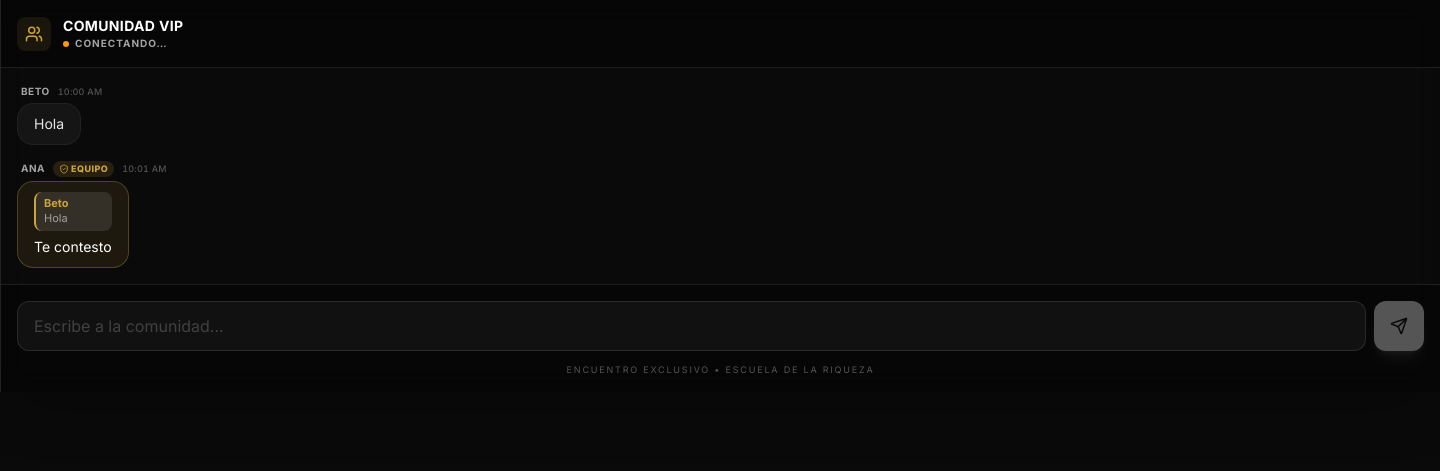
Test: LiveChat — moderación y borrado en tiempo real (2026-10-09) › DELETE por Realtime › no cancela una respuesta a otro mensaje
The width and height of the screenshot is (1440, 471).
Step 1. Click the button "Beto Hola Te contesto" → {"x": 73, "y": 224}, box [17,180,128,268]
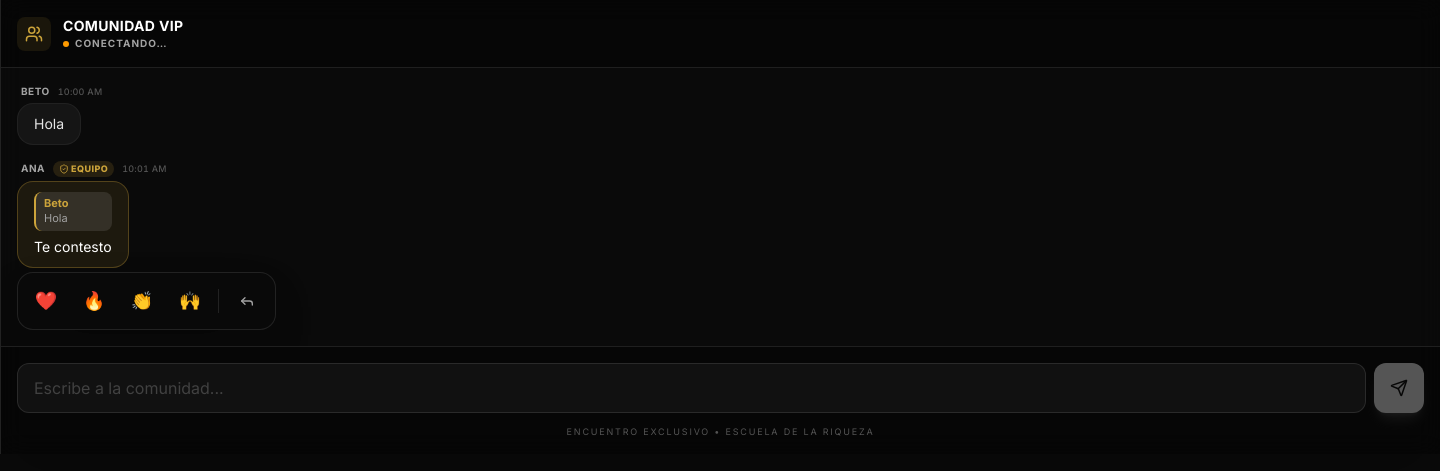
Step 2. Click the menu item named "Responder" → {"x": 247, "y": 301}, box [225,279,269,323]
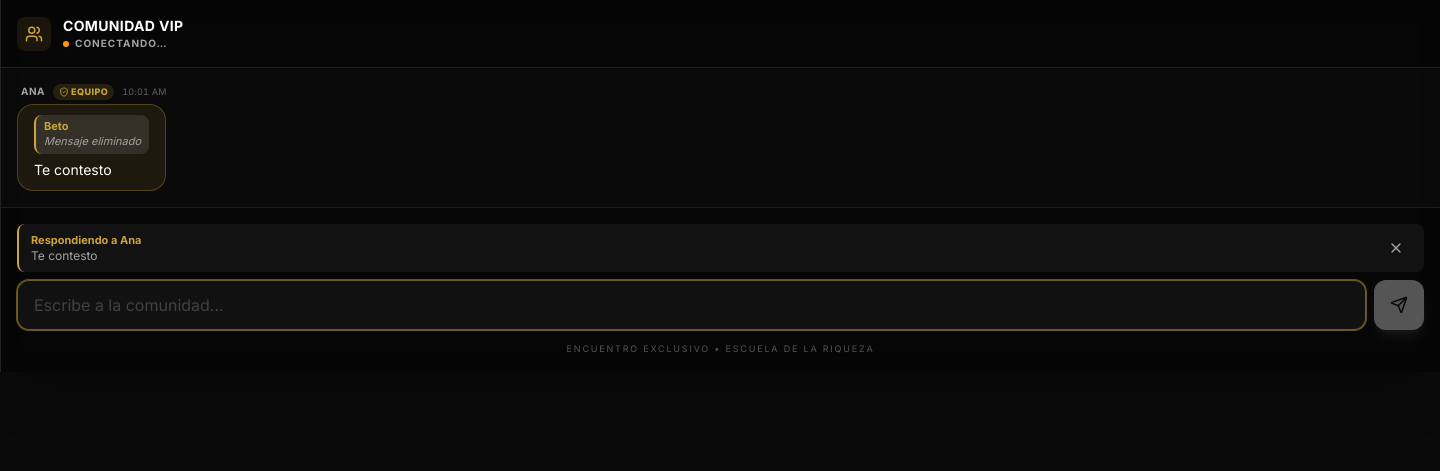
Expected: the text "Respondiendo a Ana" is shown, [31,233,141,247]
